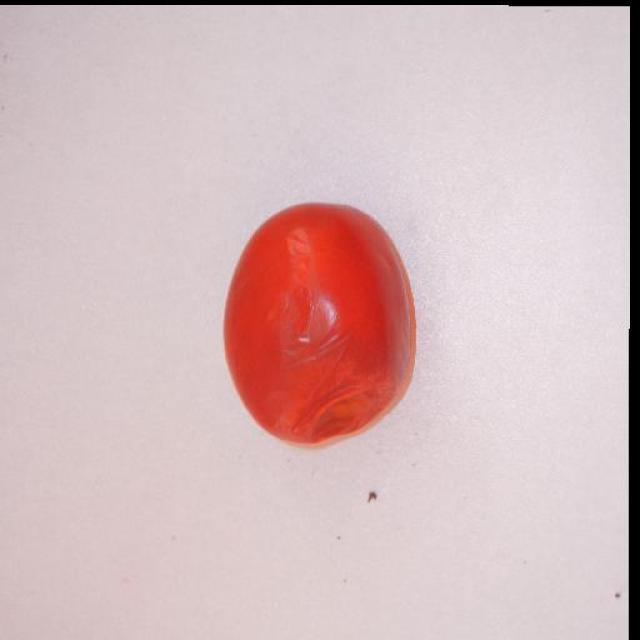Stale_tomato: (282, 345, 403, 438)
